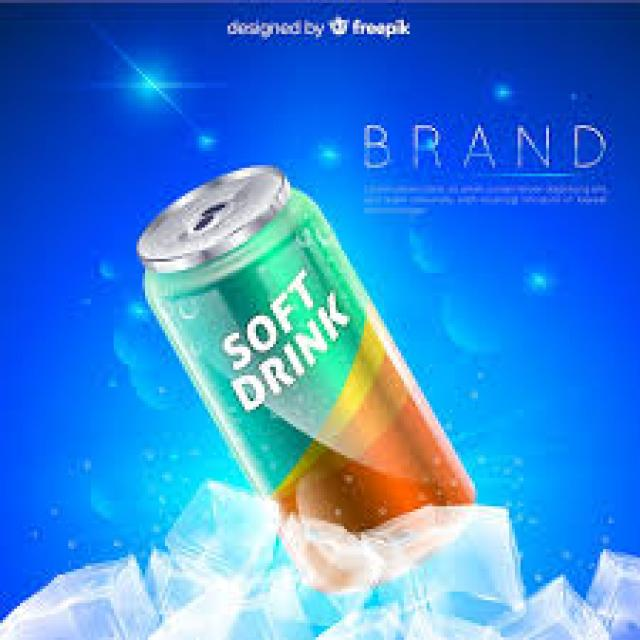Cans: (122, 154, 481, 583)
